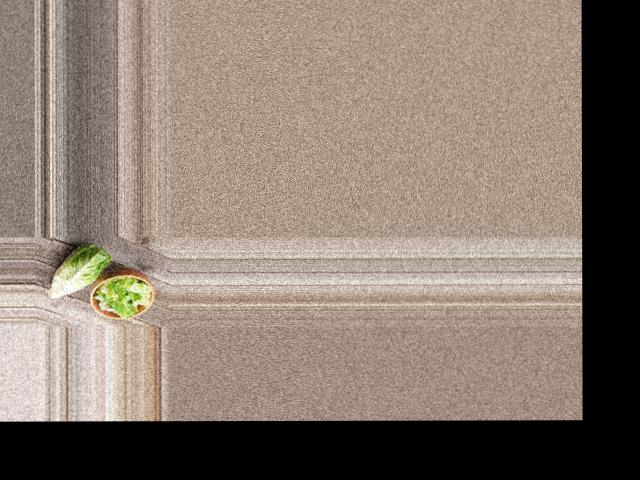lettuce: (50, 242, 110, 299)
